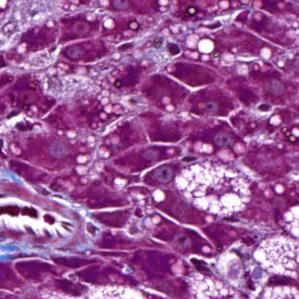ballooning: (173, 159, 254, 218), (249, 235, 295, 279)
